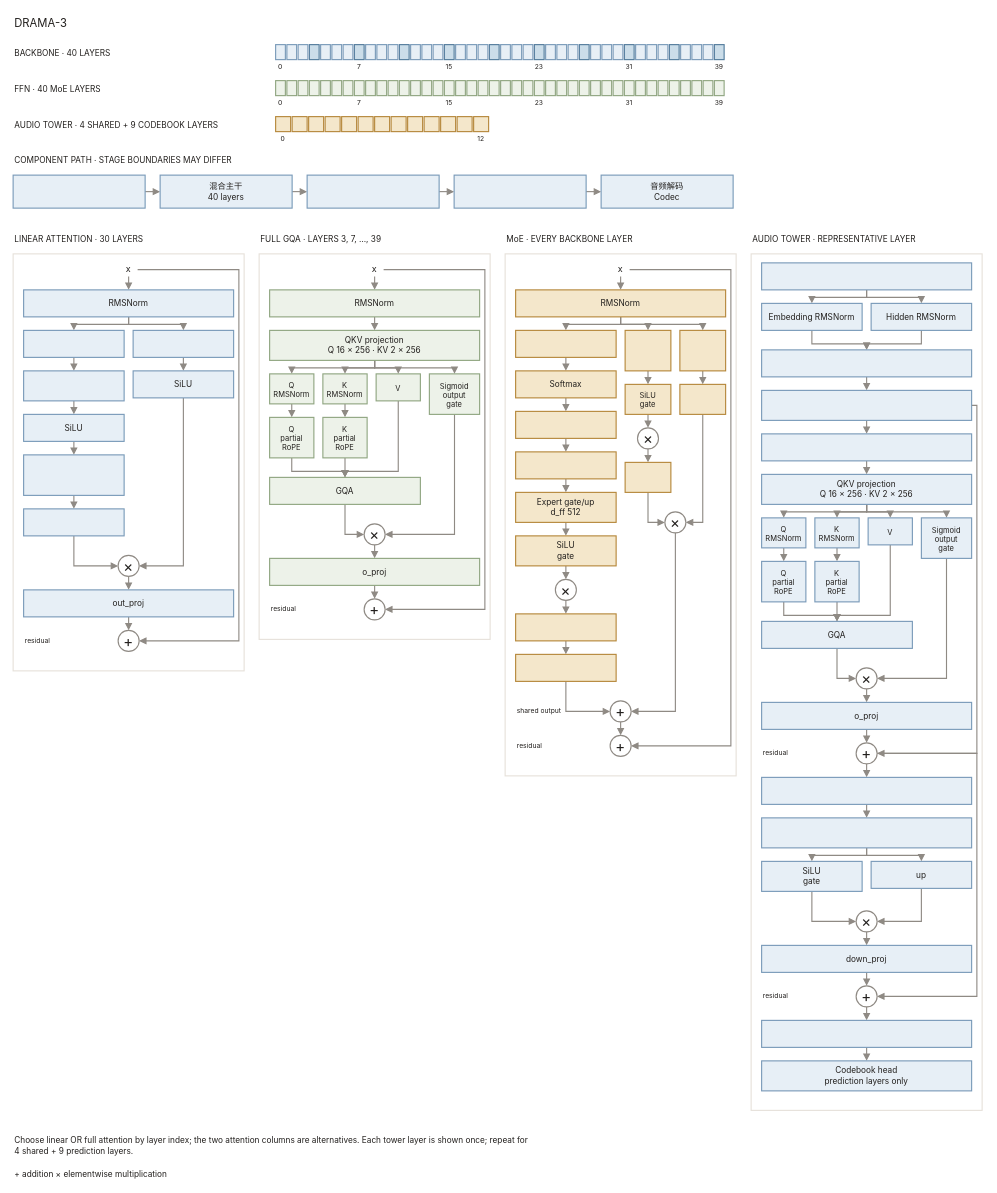
Some shapes in this 997 by 1193 pixel diagram are drawn without their labels. Each missing label, with the centre of its shape:
Code embedding: point 866,276
Concatenate embeddings: point 866,363
eh_proj 4,096 → 2,048: point 866,405
Expert down_proj: point 565,627
Final RMSNorm: point 866,1033
Gate projection: point 183,343
gate_up_proj fused linear · d_ff 6,144: point 866,832
Gated DeltaNet recurrent state update: point 73,475
Input RMSNorm: point 866,447
Output RMSNorm: point 73,522
Post-attention RMSNorm: point 866,790
QKV projection: point 73,343
Renormalize weights: point 565,465
Router linear: point 565,343
Shared down_proj: point 647,477
Shared gate linear: point 702,350
Shared gate/up d_ff 512: point 647,350
Short Conv1d kernel 4: point 73,385
Sigmoid gate: point 702,399
Top-8 selection: point 565,424
Weighted expert sum: point 565,667
文本与参考音频 Prompt: point 78,191
码本补全 4 + 9 layers: point 519,191
语义码 Semantic head: point 372,191
